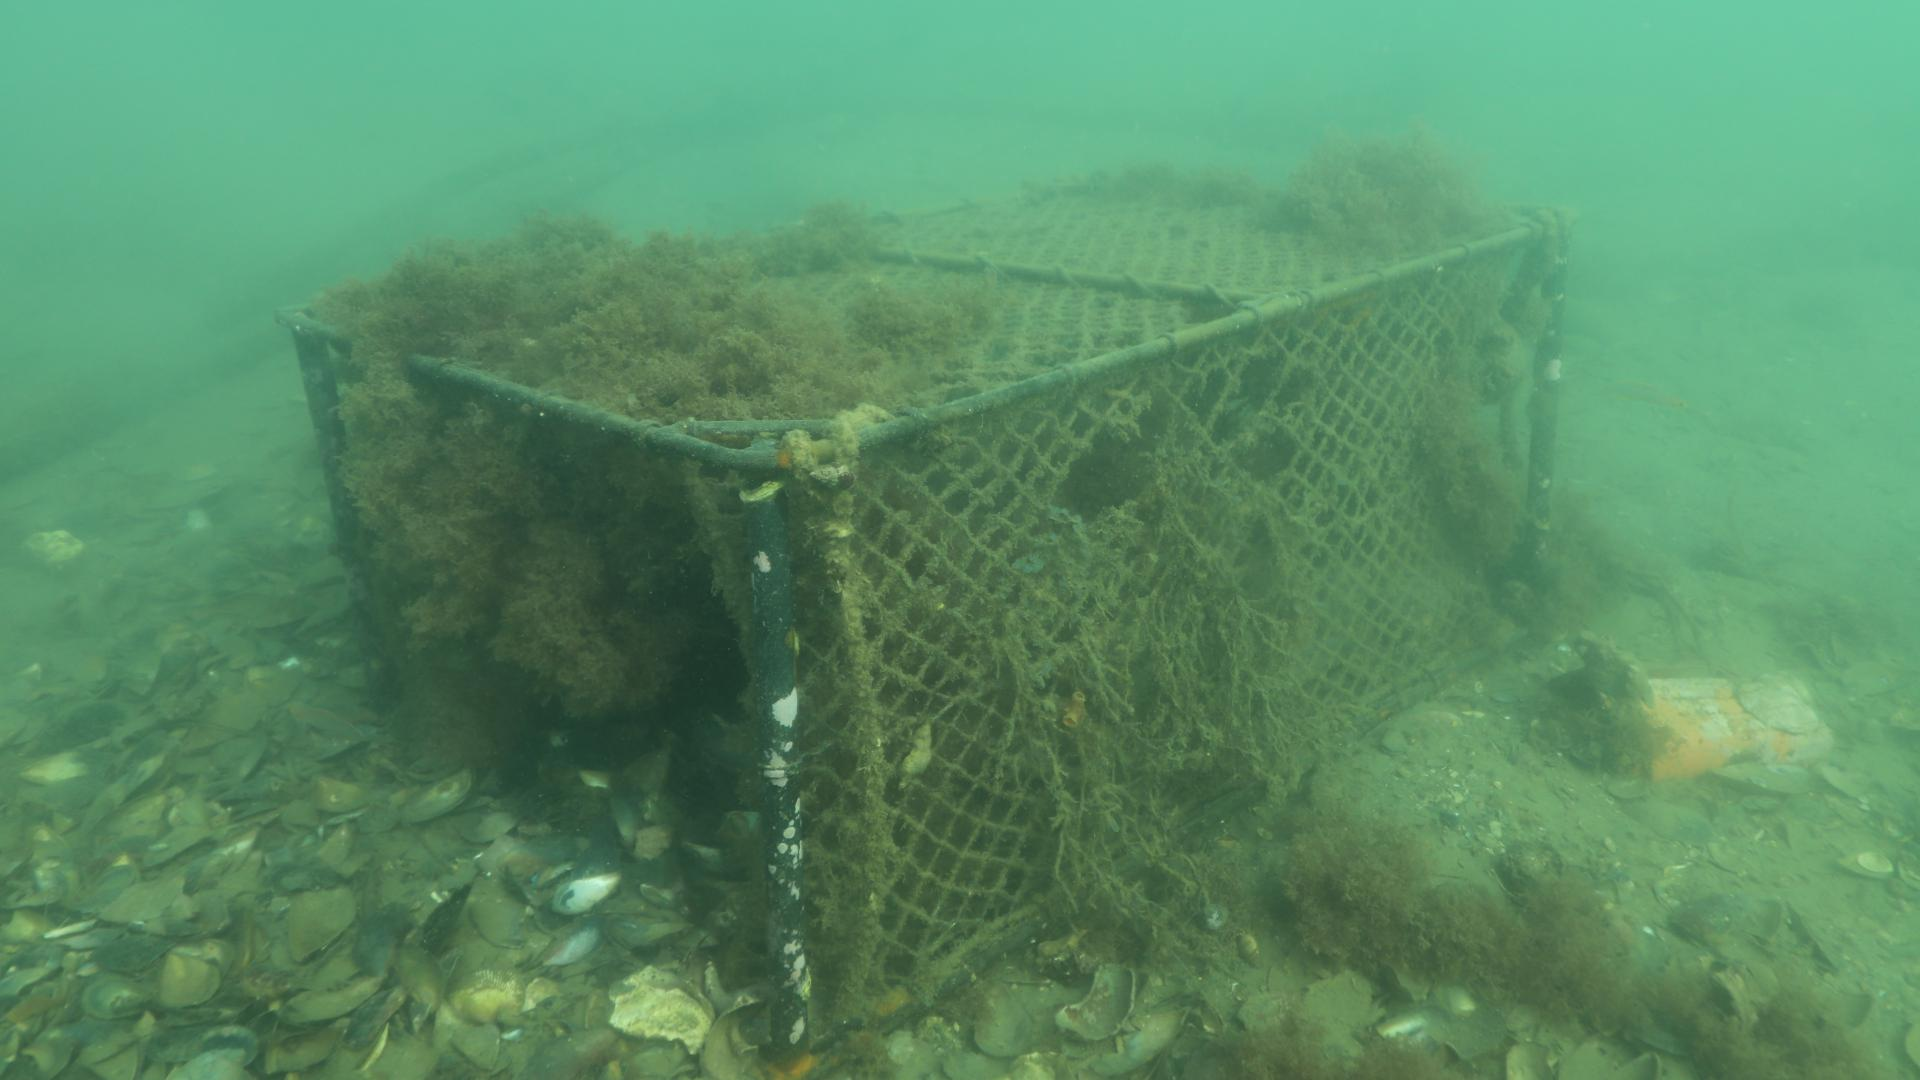rectangular fish trap: (276, 196, 1576, 1080)
